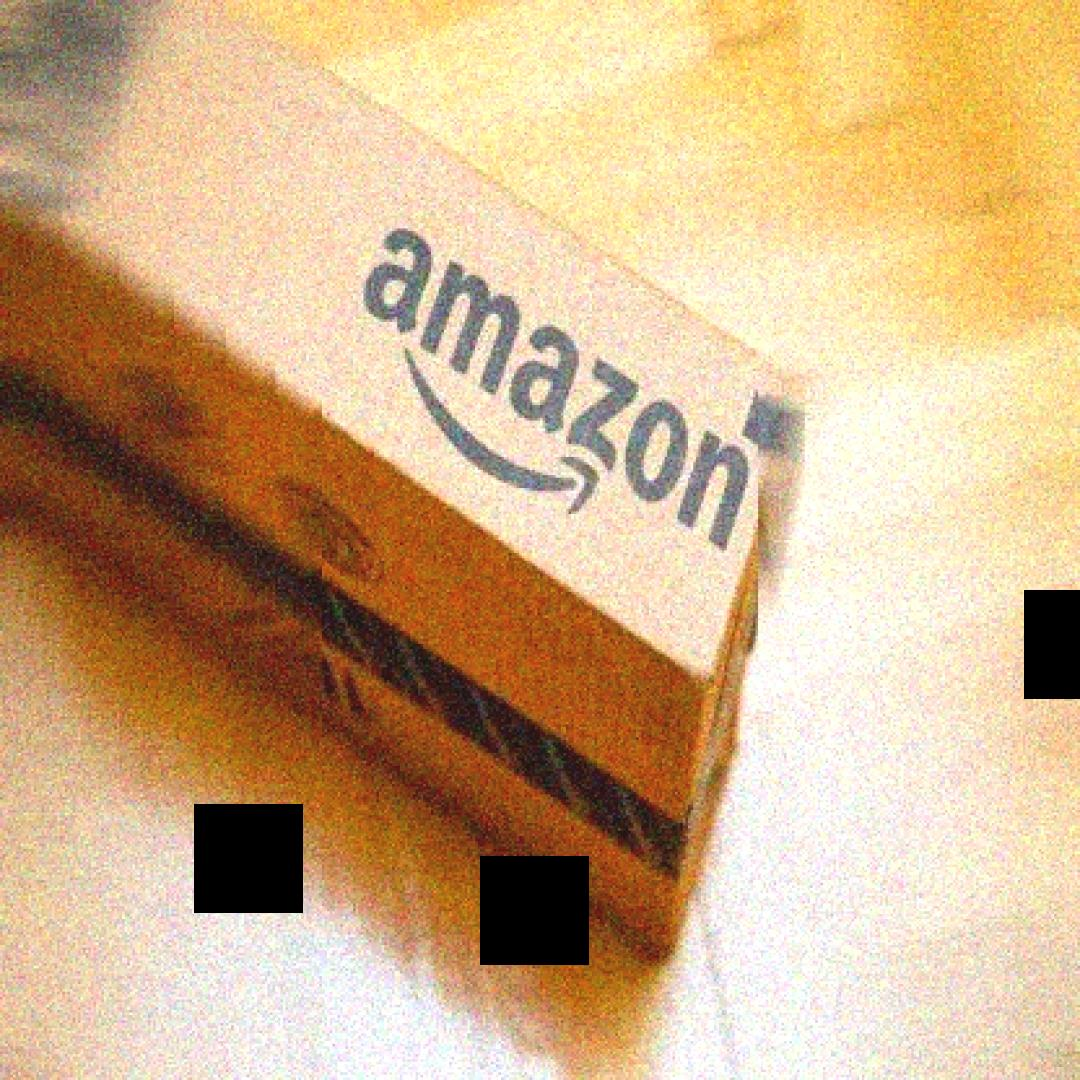package: (0, 0, 812, 981)
